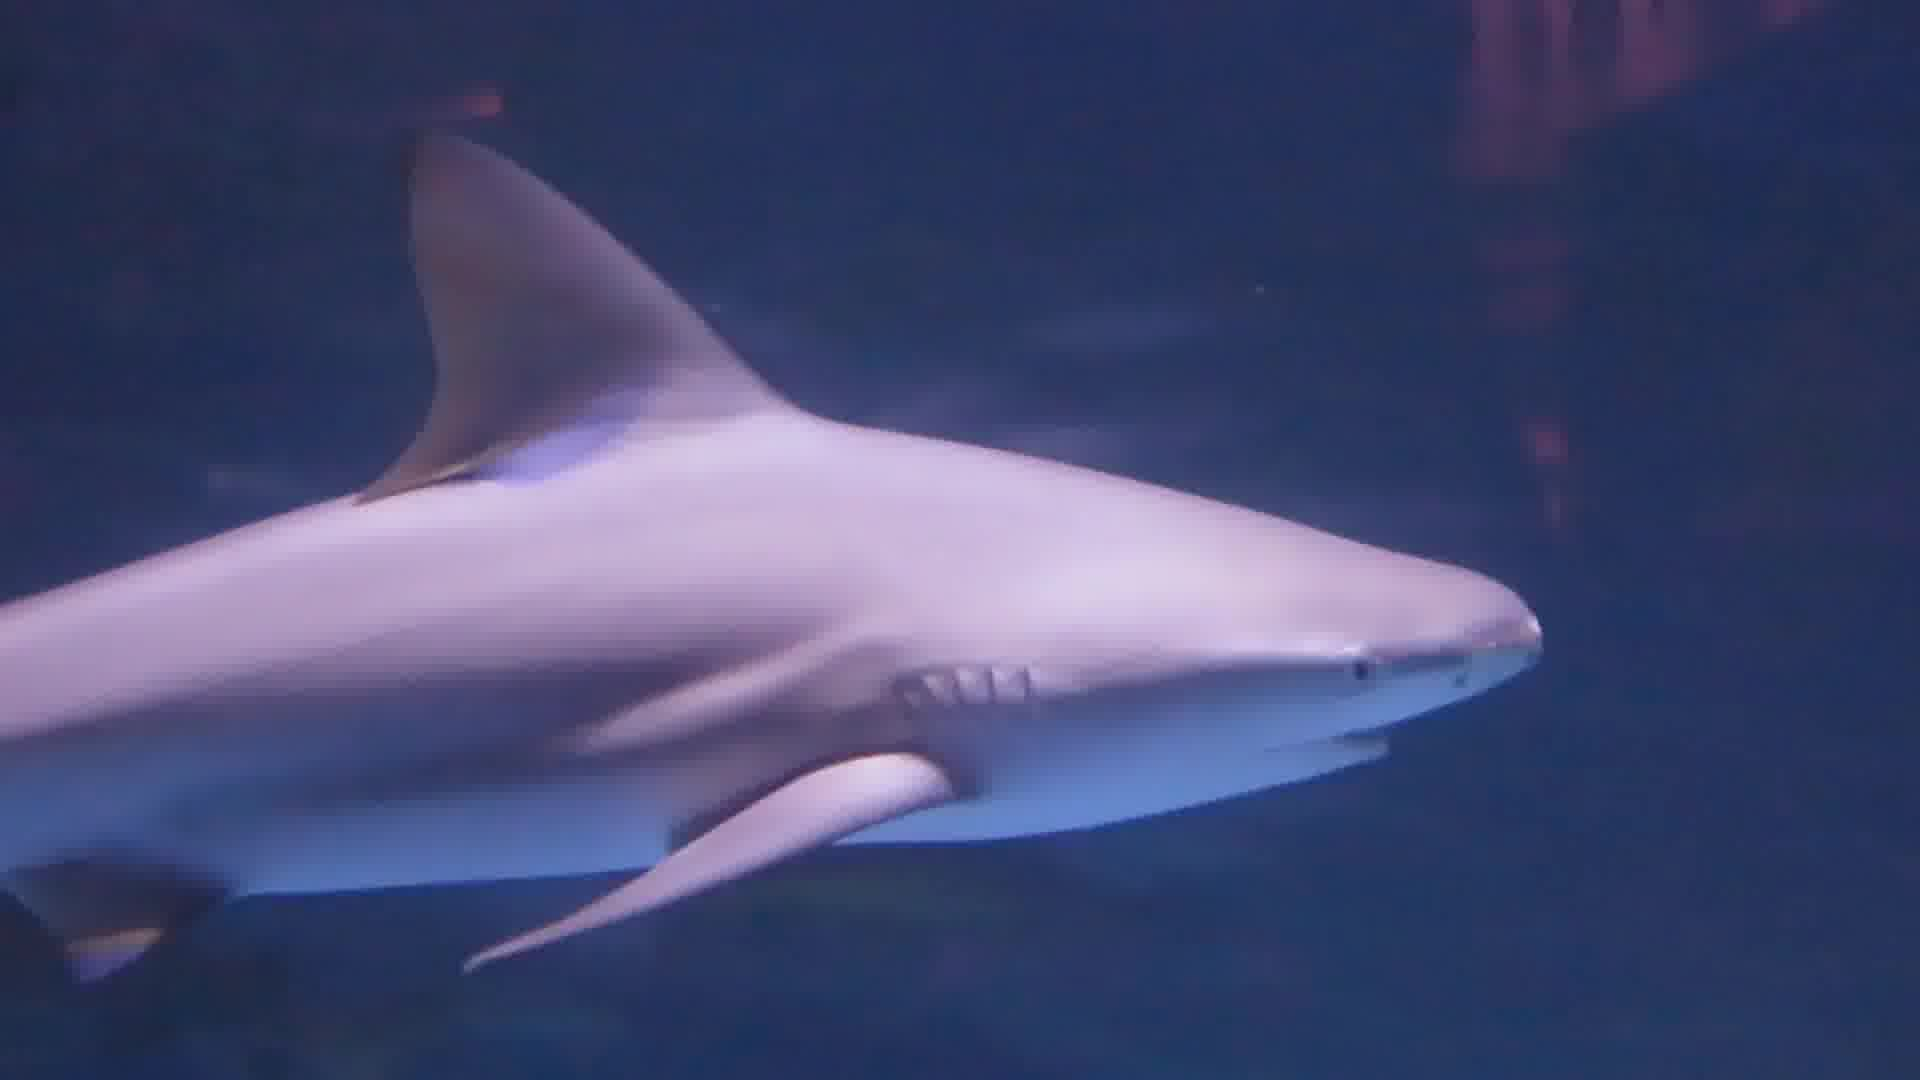Carcharhinus leucas: (7, 135, 1528, 1007)
